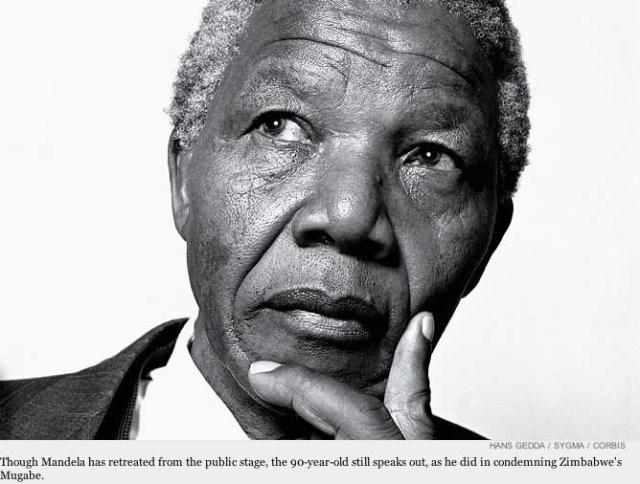forehead: (274, 28, 358, 52), (412, 44, 462, 76)
gummy_smile: (238, 215, 288, 283), (398, 260, 419, 312)
